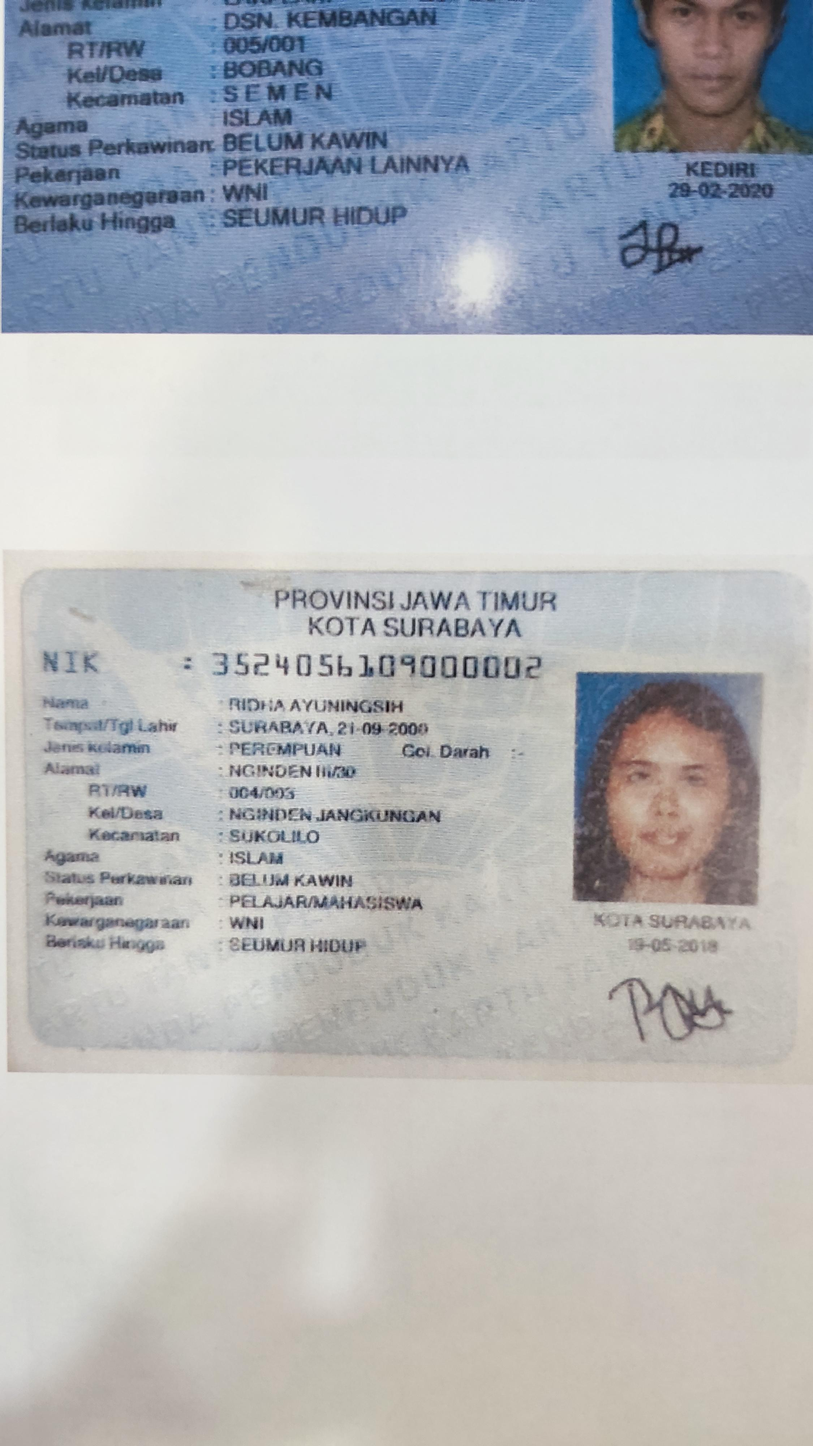ID-card: (25, 569, 801, 1056)
